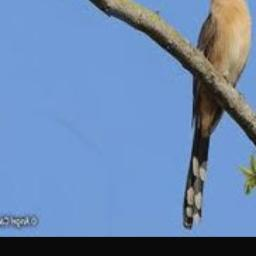Cuckoo: (183, 0, 252, 229)
